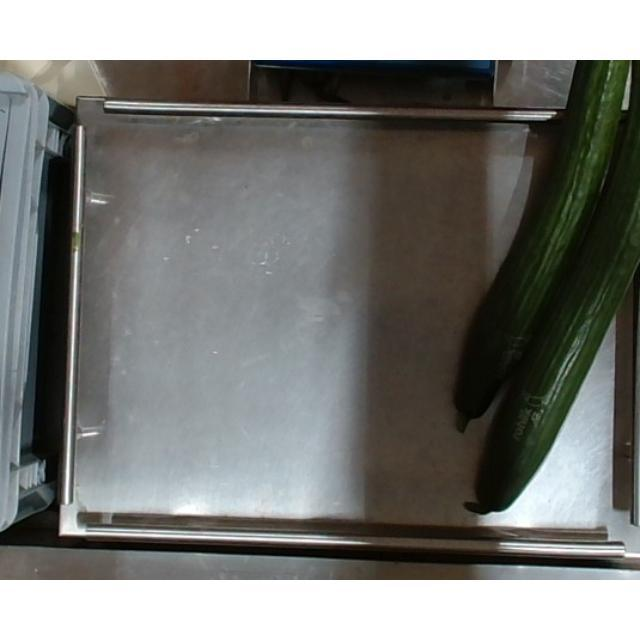cucumber: (472, 61, 640, 520), (452, 61, 630, 433)
